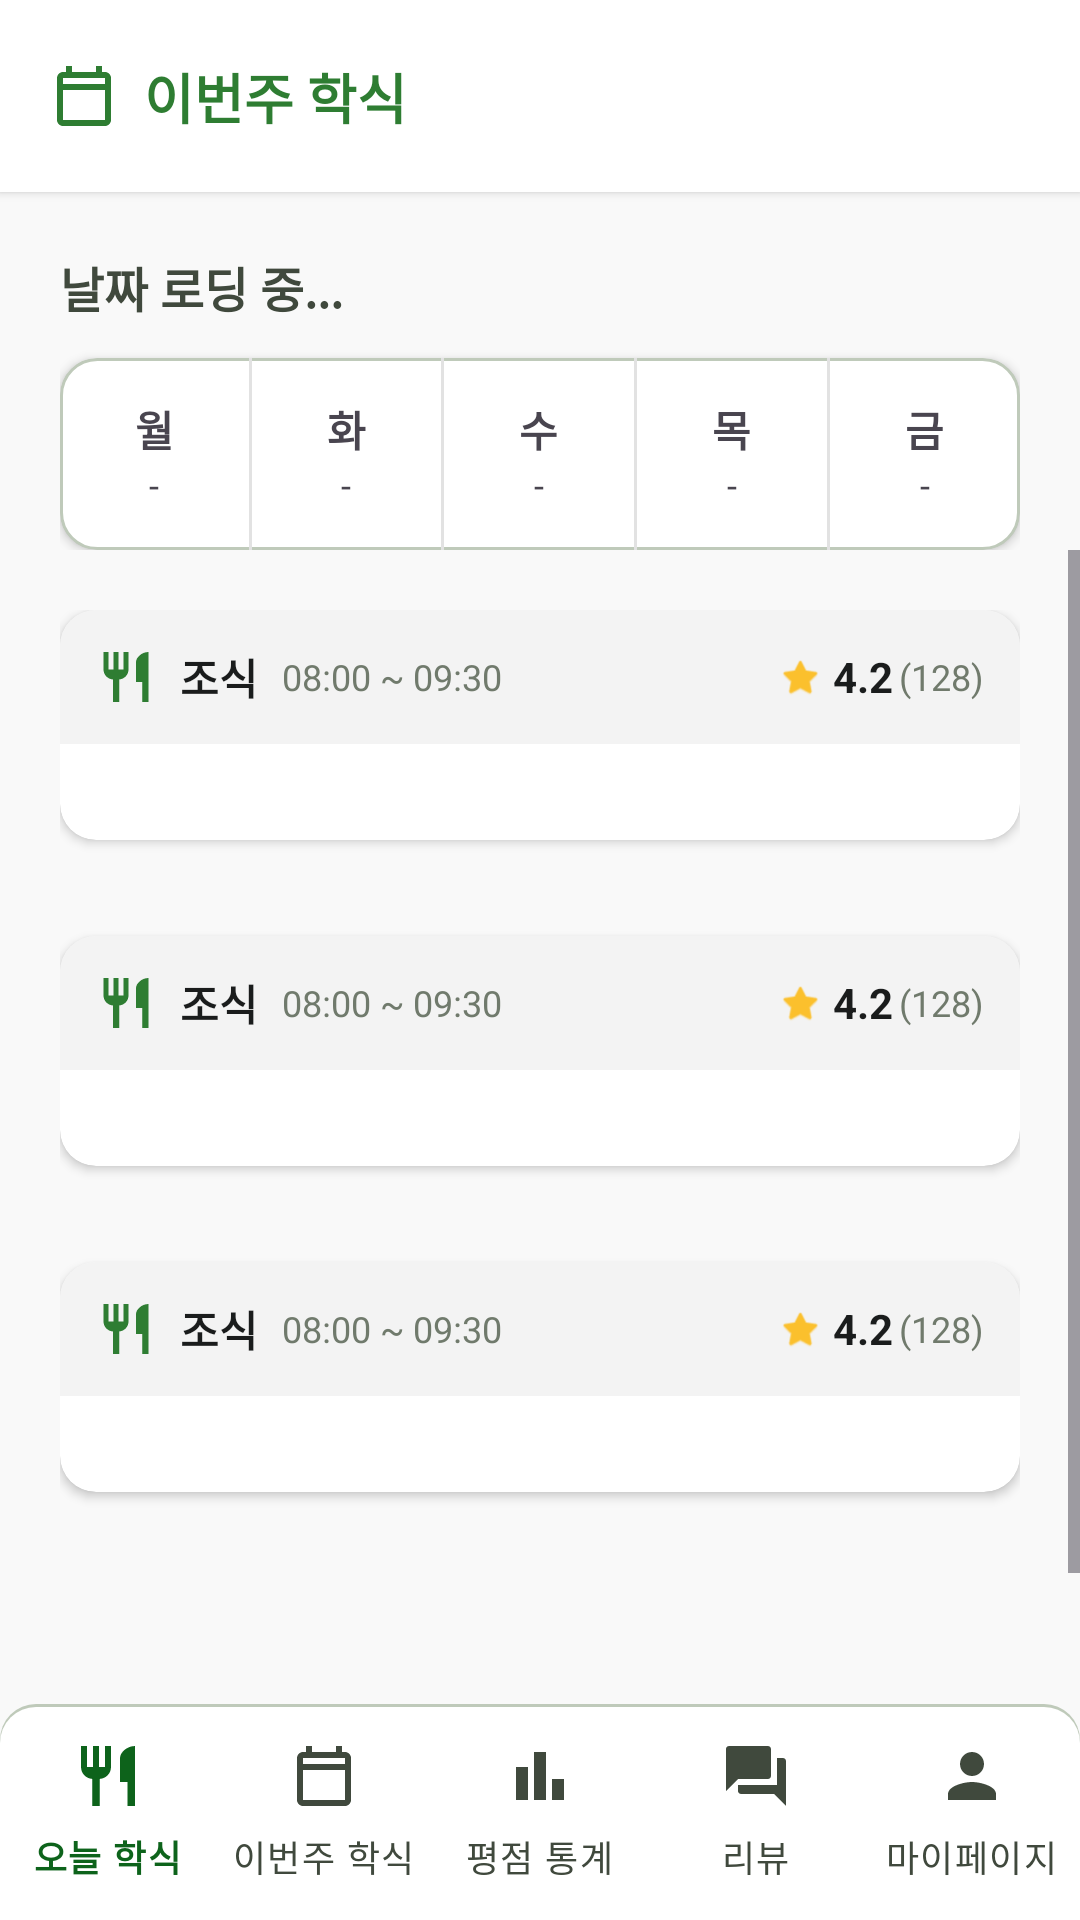

Icons on this 1080 × 1920 Android screen, each with its box as (x1, y1, x2, y2):
calendar month: (57, 66, 111, 126)
restaurant: (103, 652, 149, 702), (103, 978, 149, 1028), (103, 1304, 149, 1354)
star on: (783, 660, 818, 694), (783, 986, 818, 1020), (783, 1312, 818, 1346)
